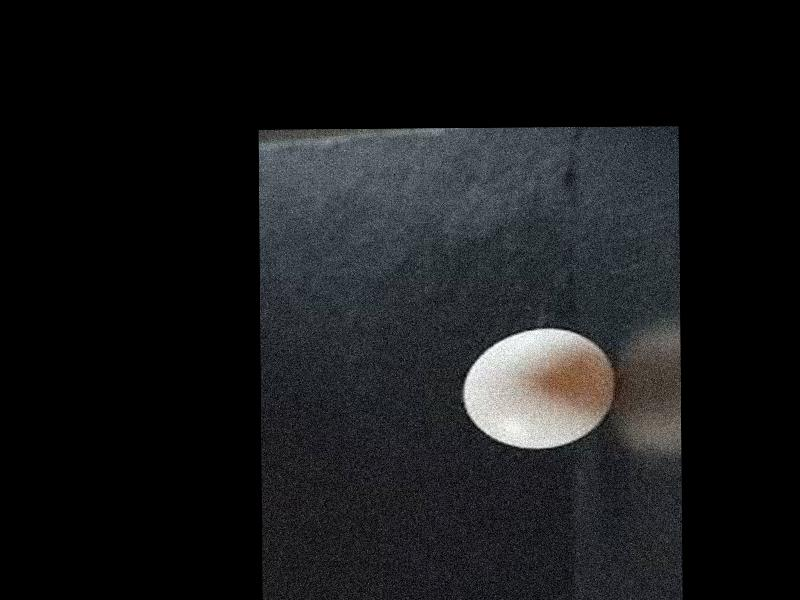Eggs: (459, 327, 614, 448)
